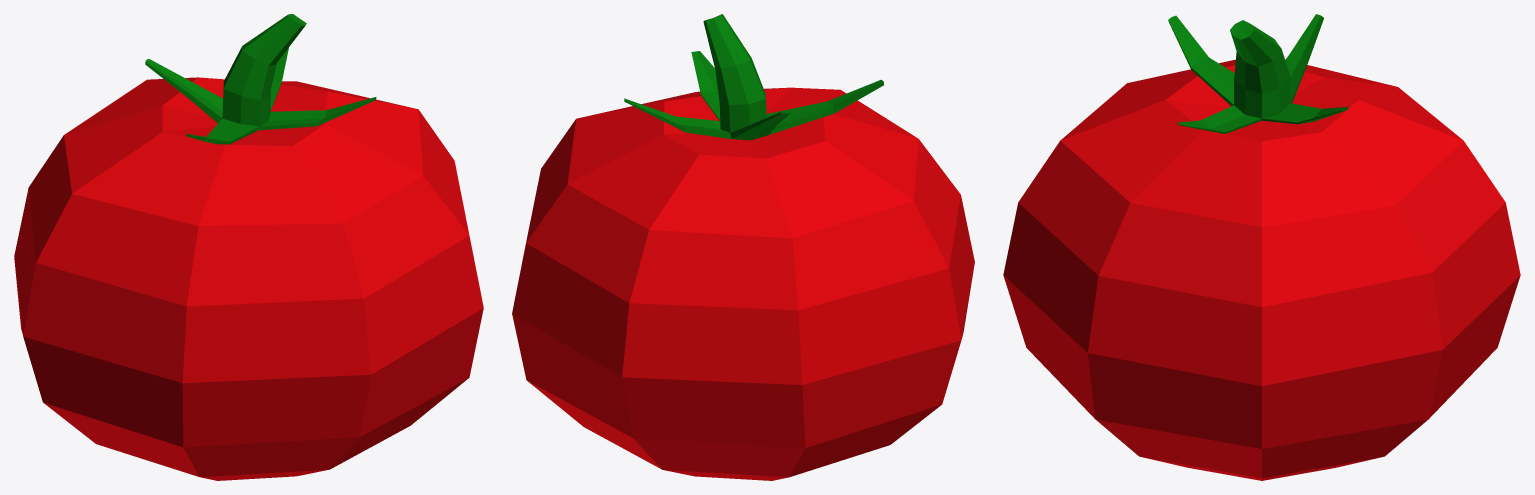
File: tomato.fbx
3 views of the same model, side by side, from view 1: azimuth 30°, elevation 25°; view 2: azimuth 150°, elevation 25°; view 3: azimuth 270°, elevation 25° (orthographic). The views are drawn at different scales.
Parts seen in each view (by area): view 1: Tomato; view 2: Tomato; view 3: Tomato.
Boxes of the visible parts, <box> form: Tomato: <box>14,14,483,480</box>; Tomato: <box>512,14,974,480</box>; Tomato: <box>1003,14,1520,480</box>.
Size of the model in its own units: 67.03 by 62.1 by 65.84.
